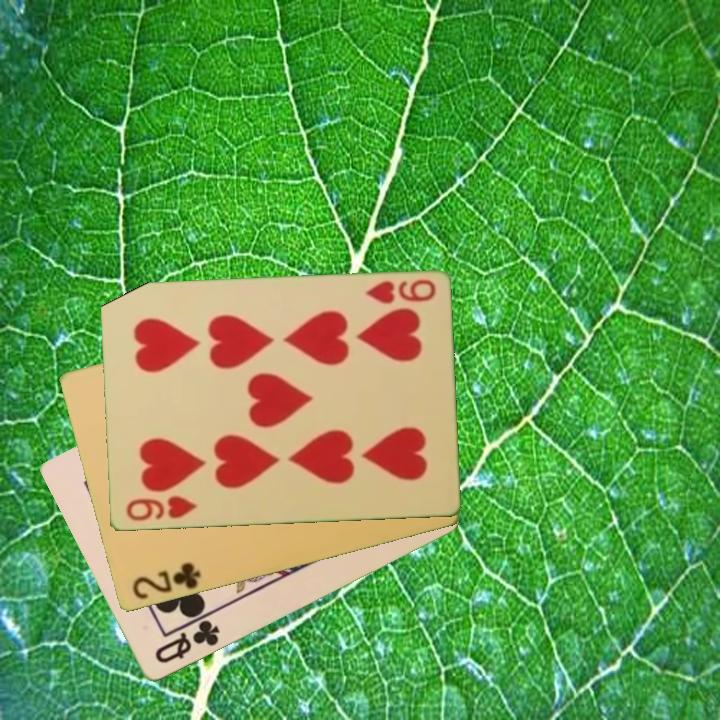2c: (128, 559, 204, 603)
9h: (122, 492, 200, 524), (362, 276, 438, 307)
Qc: (151, 617, 223, 668)
